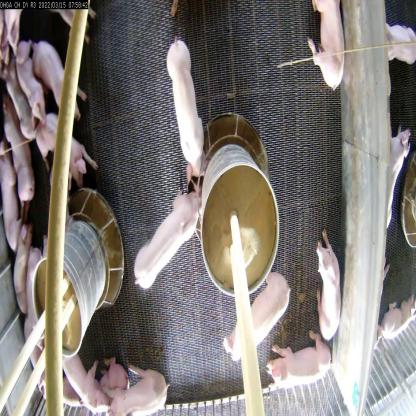Pig: (164, 36, 215, 195), (224, 266, 298, 366), (132, 192, 203, 282), (31, 114, 101, 194), (32, 38, 84, 128), (267, 333, 330, 398), (313, 228, 345, 343), (309, 0, 344, 105), (19, 248, 50, 349), (0, 139, 29, 244), (67, 346, 107, 415), (109, 370, 169, 415), (16, 42, 45, 113)
